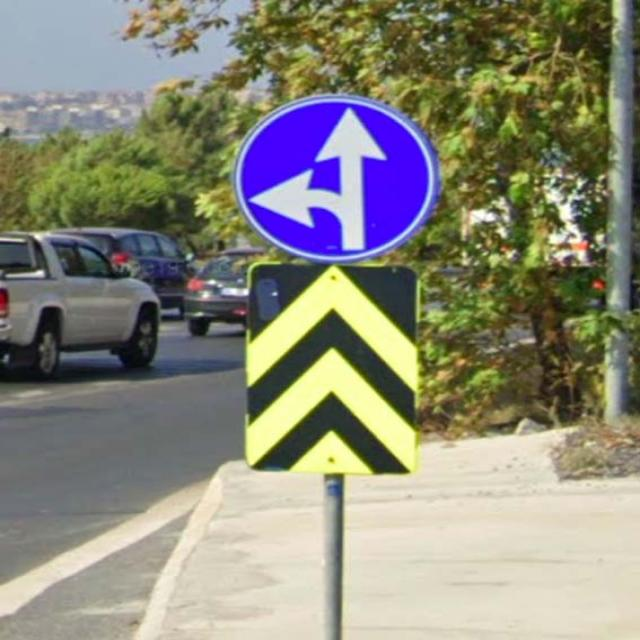ilerisol: (232, 94, 434, 259)
